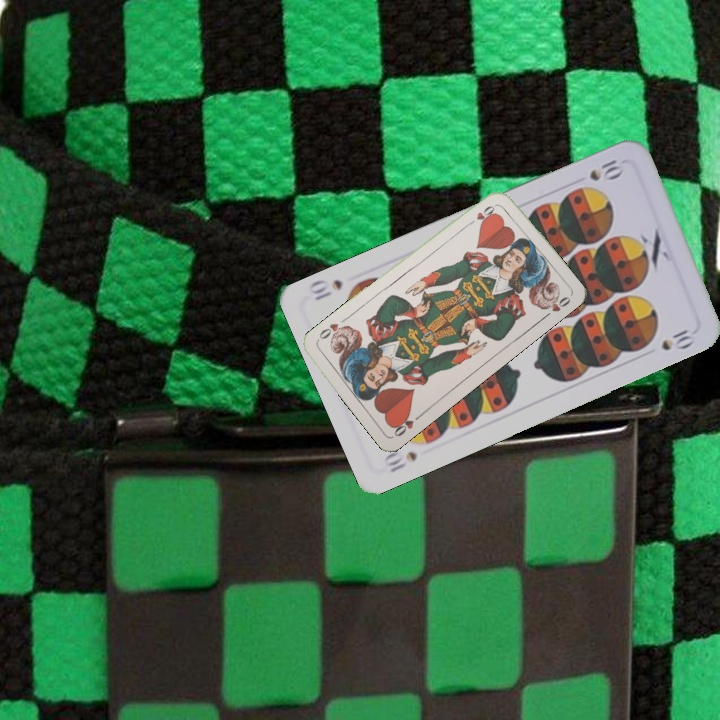HO: (463, 200, 499, 229), (389, 410, 425, 439)
S10: (585, 155, 626, 184), (380, 447, 420, 475)
